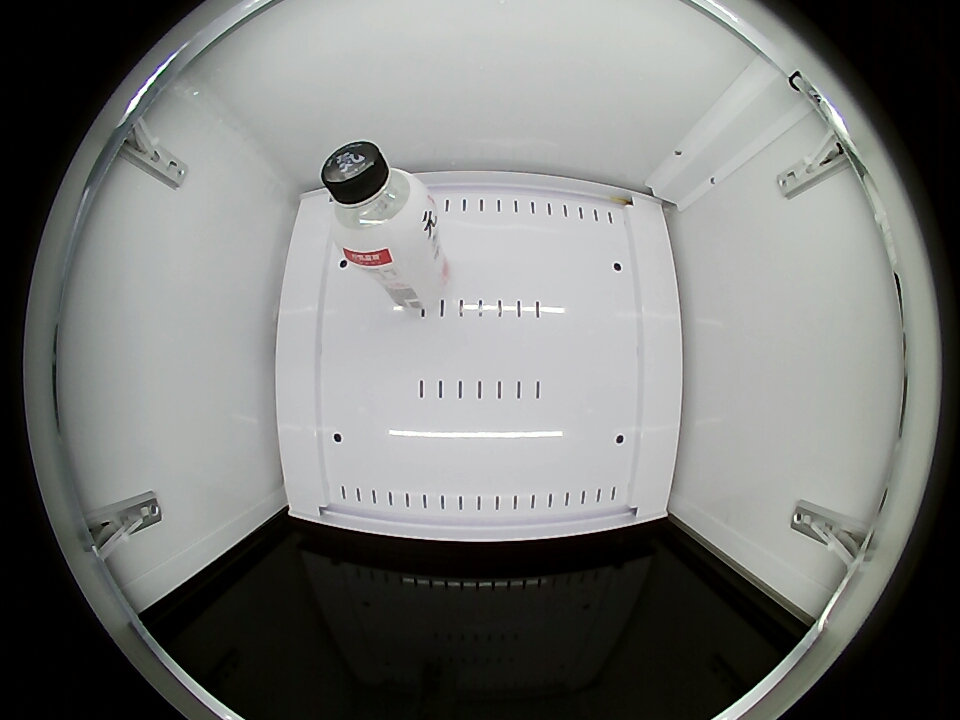yuanqishui: (321, 141, 437, 264)
